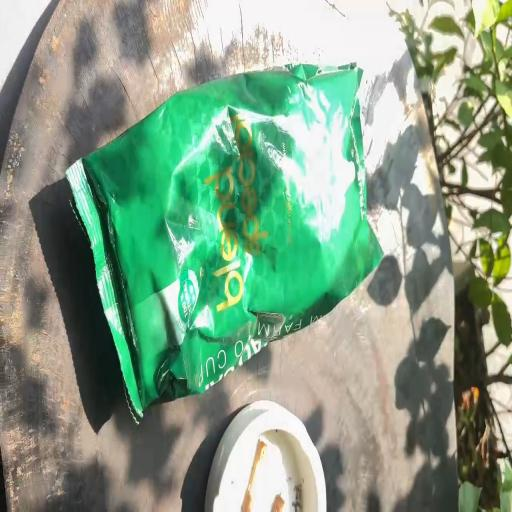cafe_xay: (66, 63, 382, 416)
